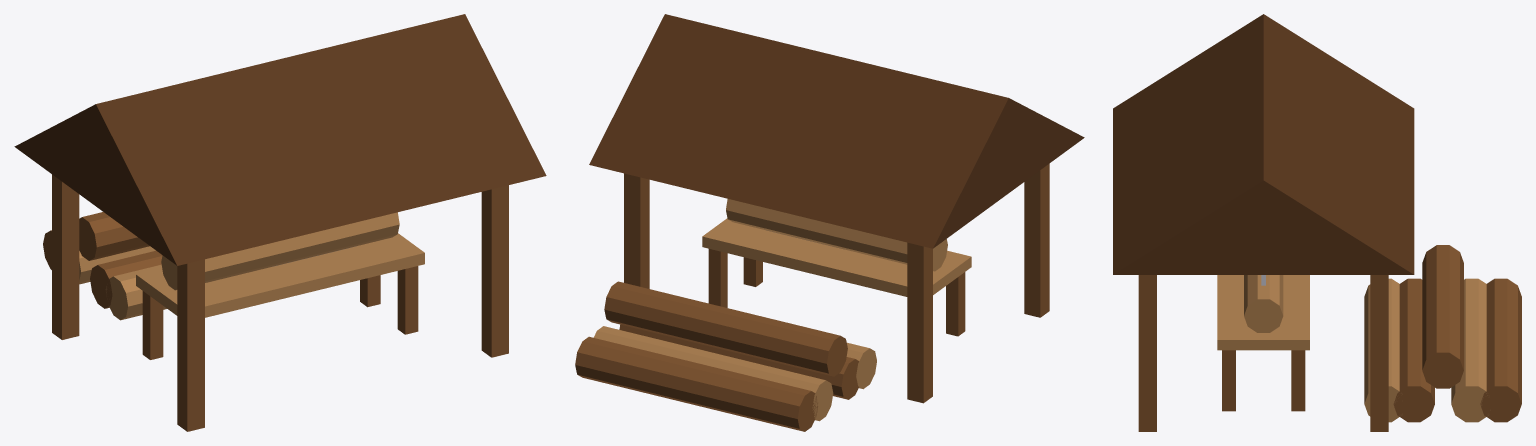
Rendered from tartak.glb.
3 renders of one model, left to right at view 1: azimuth 30°, elevation 25°; view 2: azimuth 150°, elevation 25°; view 3: azimuth 270°, elevation 25°, orthographic. The views are drawn at different scales.
Visible parts, largest first — view 1: tartak; view 2: tartak; view 3: tartak.
Part boxes in pixels (<box>): tartak: <box>14,14,546,431</box>; tartak: <box>575,14,1084,431</box>; tartak: <box>1113,14,1521,431</box>.
Size of the model in its own units: 3.4 by 2.5 by 3.53.
